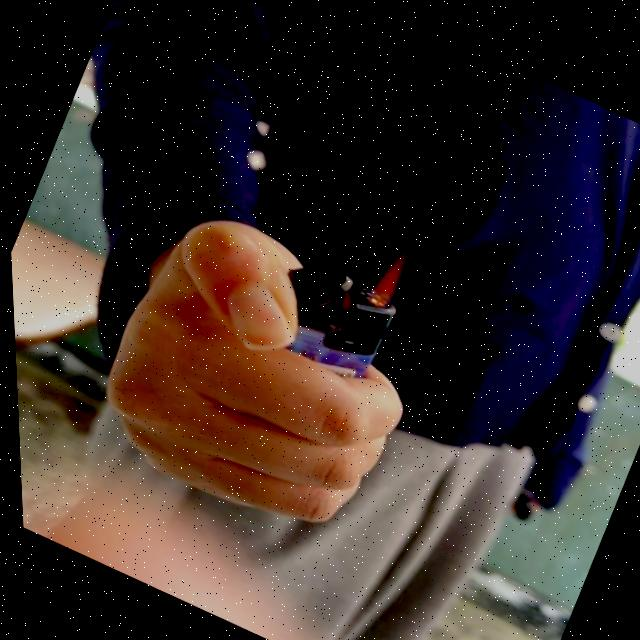Fire: (357, 238, 414, 310)
